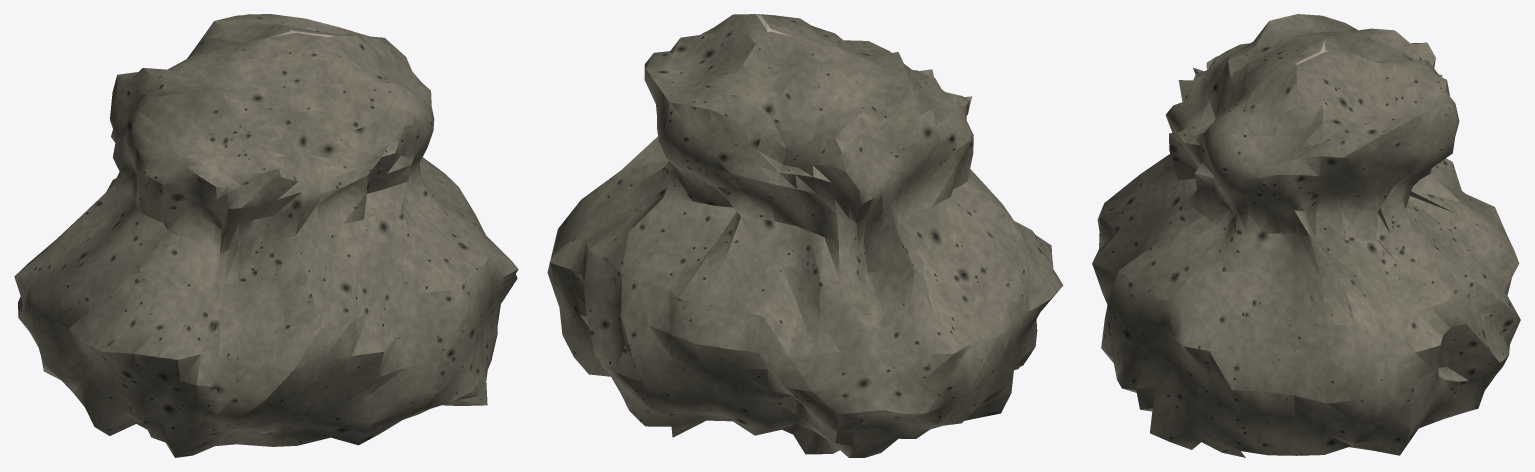
The picture shows the model from 3 angles, left to right: view 1: azimuth 30°, elevation 25°; view 2: azimuth 150°, elevation 25°; view 3: azimuth 270°, elevation 25°; orthographic projection. The views are drawn at different scales.
Visible parts, largest first — view 1: rock_wet; view 2: rock_wet; view 3: rock_wet.
Part boxes in pixels (x1,y1,x2,y2): rock_wet: (14, 14, 518, 457); rock_wet: (547, 14, 1063, 457); rock_wet: (1092, 14, 1520, 457).
Size of the model in its own units: 2.66 by 2.08 by 2.27.
Materials: 2 (2 with a texture image).
